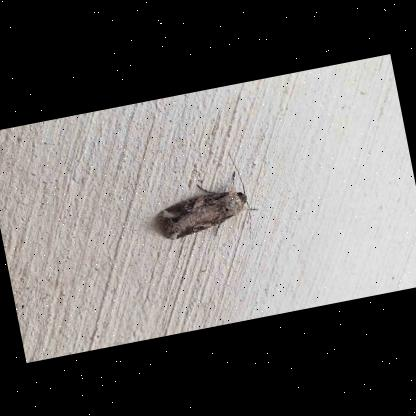Fall Armyworm Moth: (146, 147, 264, 258)
